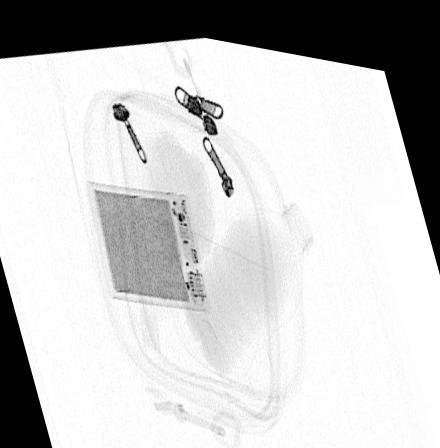Powerbank: (85, 177, 212, 304)
